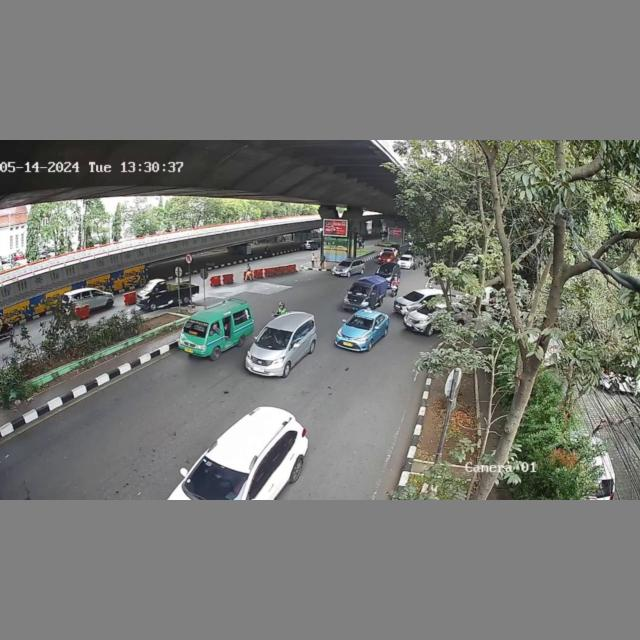windshield: (255, 325, 293, 347), (182, 318, 209, 337), (348, 316, 376, 332), (347, 283, 373, 297)
